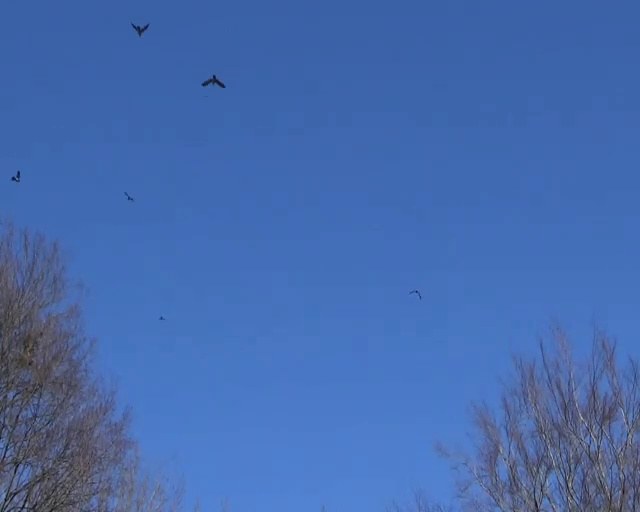BIRD: (201, 73, 226, 88)
